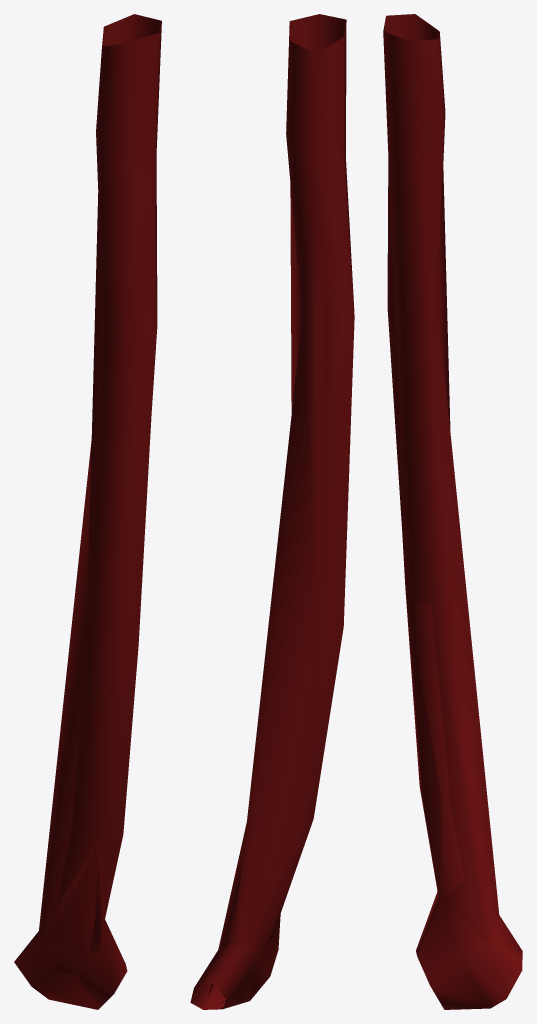
The model's file is R mediana.fbx.
The picture shows the model from 3 angles, left to right: view 1: azimuth 90°, elevation 25°; view 2: azimuth 150°, elevation 25°; view 3: azimuth 270°, elevation 25°; orthographic projection. The views are drawn at different scales.
Parts seen in each view (by area): view 1: R mediana, R mediana low; view 2: R mediana, R mediana low; view 3: R mediana low, R mediana.
Part boxes in pixels (left/top/right/bottom): R mediana: left=14, top=14, right=161, bottom=1009; R mediana low: left=32, top=14, right=161, bottom=1009; R mediana: left=190, top=14, right=354, bottom=1009; R mediana low: left=203, top=16, right=346, bottom=1009; R mediana low: left=383, top=31, right=515, bottom=948; R mediana: left=383, top=14, right=522, bottom=1009.
Size of the model in its own units: 1.09 by 8.75 by 1.16.
